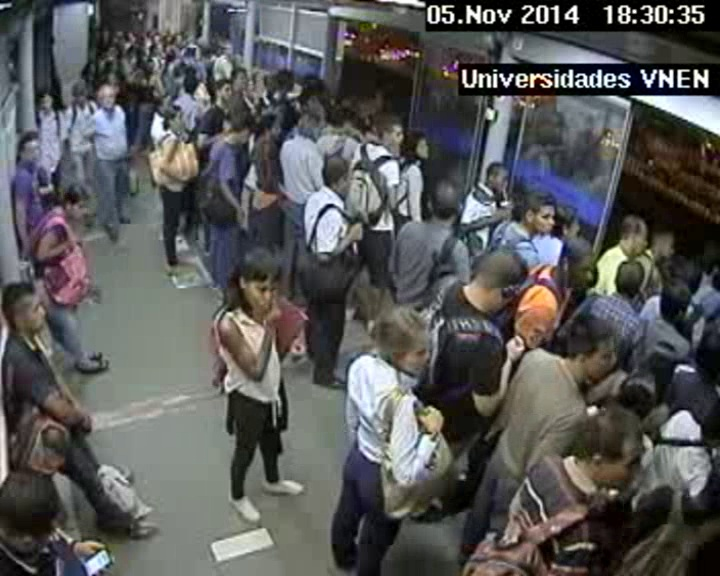person: (573, 410, 653, 493), (1, 467, 68, 564), (557, 312, 630, 385), (368, 304, 435, 379), (227, 248, 291, 320), (15, 411, 77, 478), (467, 248, 529, 309), (1, 281, 50, 339), (421, 177, 467, 228), (557, 242, 602, 291), (620, 378, 662, 424), (521, 190, 557, 239), (643, 340, 681, 383), (688, 398, 720, 447), (317, 154, 355, 193), (551, 200, 585, 243), (658, 278, 693, 318), (690, 329, 720, 375), (616, 216, 651, 255), (614, 258, 647, 297), (63, 181, 94, 222), (673, 256, 706, 292), (378, 112, 409, 147), (17, 132, 48, 165), (401, 130, 431, 163), (224, 114, 255, 145), (651, 229, 679, 261), (486, 162, 513, 194), (257, 114, 283, 143), (358, 98, 383, 125), (209, 78, 232, 106), (300, 91, 325, 116), (95, 86, 119, 112), (255, 138, 279, 164), (297, 114, 320, 140), (273, 68, 294, 94), (71, 81, 92, 106), (36, 90, 57, 115), (164, 105, 185, 129), (330, 106, 351, 129), (104, 72, 124, 94), (152, 91, 171, 114), (231, 68, 249, 89), (182, 67, 199, 84), (141, 57, 155, 73), (253, 72, 267, 86), (199, 48, 212, 62), (107, 44, 119, 57), (164, 47, 175, 61), (221, 45, 232, 57), (135, 48, 146, 59), (152, 32, 162, 43), (247, 79, 257, 90), (149, 44, 158, 55), (175, 32, 184, 43), (125, 30, 134, 40), (185, 35, 194, 45), (186, 48, 196, 57), (128, 46, 137, 55), (100, 27, 108, 36), (214, 46, 222, 55), (136, 35, 142, 45), (116, 30, 122, 39), (170, 38, 176, 44), (146, 32, 151, 37)
